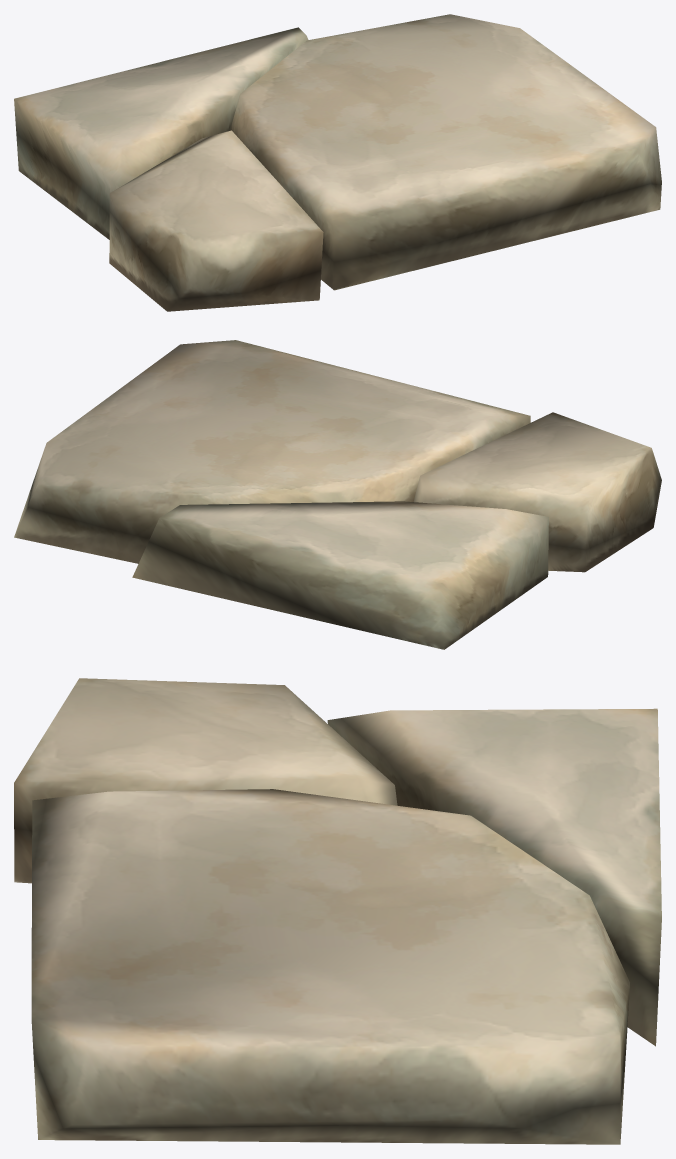
File: mesh_StoneSlab_3.fbx
The picture shows the model from 3 angles, top to bottom: view 1: azimuth 30°, elevation 25°; view 2: azimuth 150°, elevation 25°; view 3: azimuth 270°, elevation 25°; orthographic projection. The views are drawn at different scales.
Parts seen in each view (by area): view 1: StoneSlab_3_LOD0; view 2: StoneSlab_3_LOD0; view 3: StoneSlab_3_LOD0.
Boxes of the visible parts, box(x1,y1,x2,y2) form: StoneSlab_3_LOD0: box(14, 14, 661, 311); StoneSlab_3_LOD0: box(14, 340, 661, 649); StoneSlab_3_LOD0: box(14, 678, 661, 1144).
Size of what is drawn, in the model's own units: 2.58 by 0.4063 by 1.96.
Materials: 1 (1 with a texture image).
